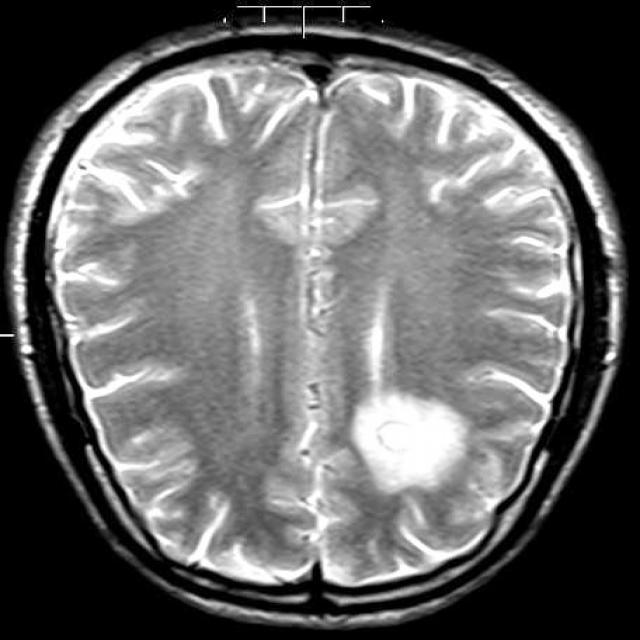Tumor: (345, 388, 478, 506)
